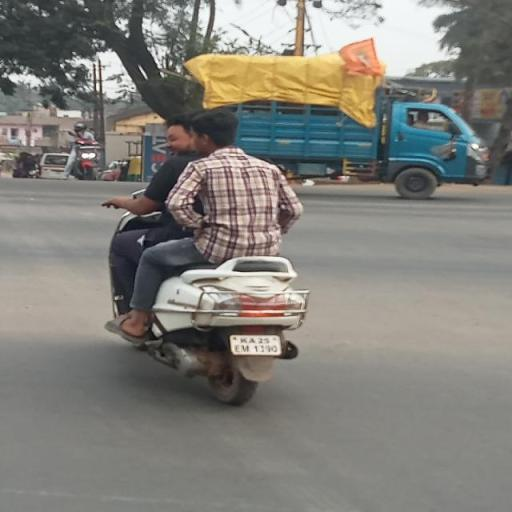bike: (92, 94, 322, 408)
numberplate: (225, 334, 284, 354)
withouthelmet: (197, 112, 235, 150), (165, 116, 193, 156)
